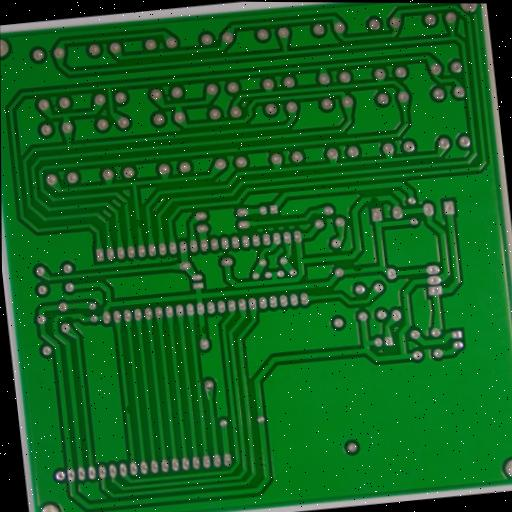mouse_bite: (122, 401, 135, 418), (197, 321, 209, 338), (134, 215, 146, 232), (351, 264, 368, 276), (366, 194, 383, 206)
